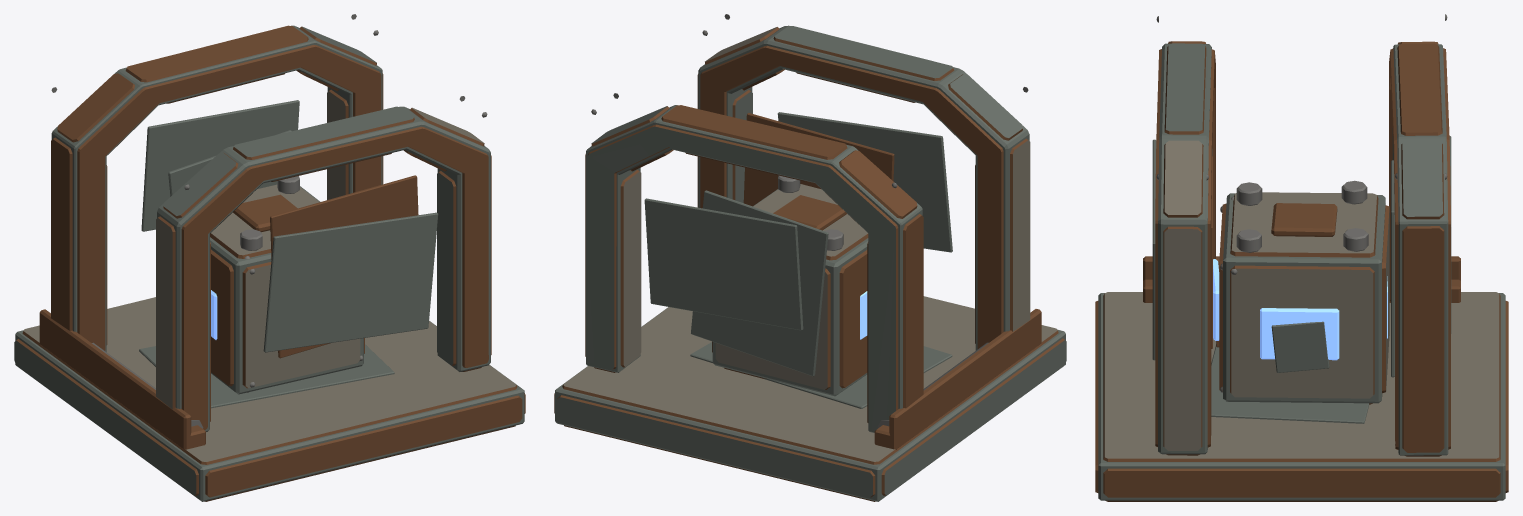
The model's file is R4X_ModuleDurabilityBooster.fbx.
3 renders of one model, left to right at view 1: azimuth 30°, elevation 25°; view 2: azimuth 150°, elevation 25°; view 3: azimuth 270°, elevation 25°, orthographic. The views are drawn at different scales.
Visible parts, largest first — view 1: R4X_ModuleDurabilityBooster_Body; view 2: R4X_ModuleDurabilityBooster_Body; view 3: R4X_ModuleDurabilityBooster_Body.
Boxes of the visible parts, bbox=[...] form: R4X_ModuleDurabilityBooster_Body: bbox=[14, 14, 525, 501]; R4X_ModuleDurabilityBooster_Body: bbox=[554, 14, 1066, 501]; R4X_ModuleDurabilityBooster_Body: bbox=[1095, 14, 1508, 501].
Size of the model in its own units: 0.52 by 0.46 by 0.52.
